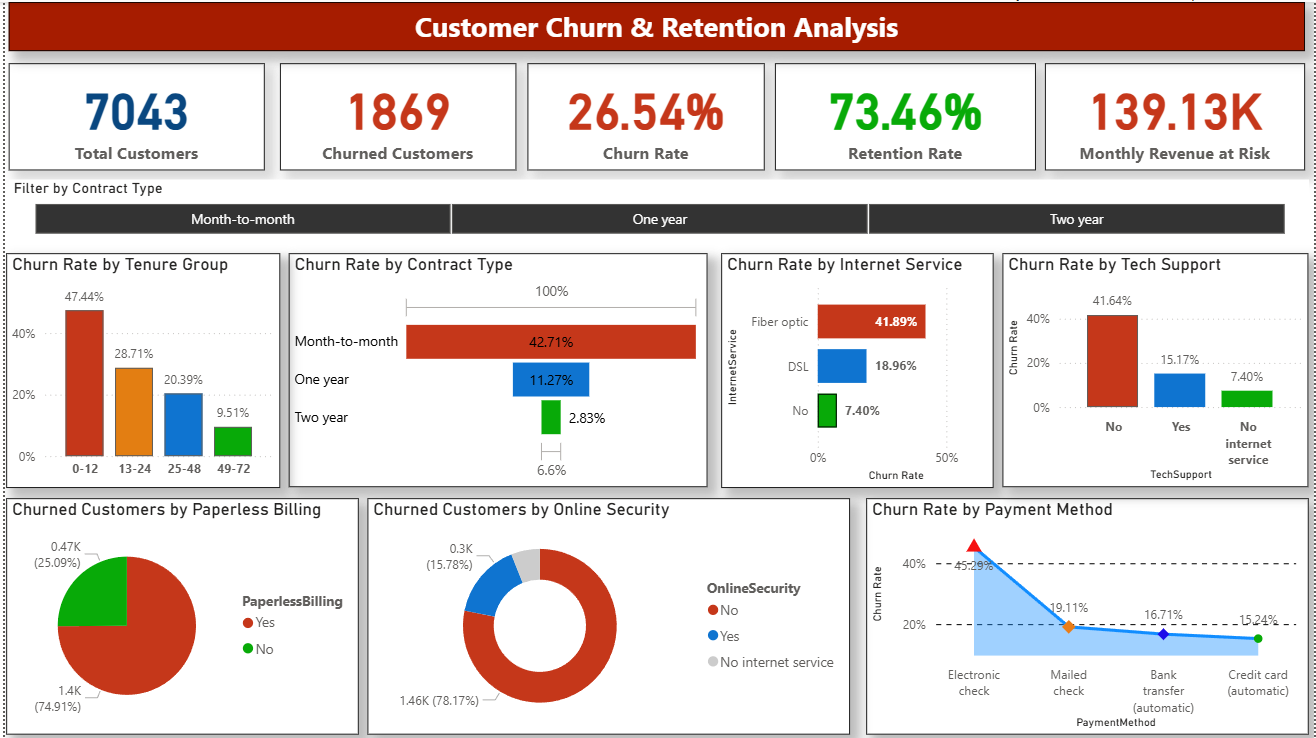

What the dashboard file says about the page in this screenshot:
{"tool":"powerbi","page":{"name":"Churn Analysis Dashboard","canvas":[1280,720],"ordinal":0},"visuals":[{"type":"card","fields":{"Values":["Telco_Customer_Churn_CLEANED.Total Customers"]},"box":[3.7,59.9,250.7,105.2],"z":0},{"type":"card","fields":{"Values":["Telco_Customer_Churn_CLEANED.Churned Customers"]},"box":[269,59.9,231.1,105.2],"z":1000},{"type":"card","fields":{"Values":["Telco_Customer_Churn_CLEANED.Churn Rate"]},"box":[511.1,59.9,232.3,105.2],"z":2000},{"type":"card","fields":{"Values":["Telco_Customer_Churn_CLEANED.Retention Rate"]},"box":[753.3,59.9,255.6,105.2],"z":3000},{"type":"card","fields":{"Values":["Telco_Customer_Churn_CLEANED.Revenue_at_risk"]},"box":[1017.4,59.9,254.3,105.2],"z":4000},{"type":"funnel","title":"Churn Rate by Contract Type","fields":{"Category":["Telco_Customer_Churn_CLEANED.Contract"],"Y":["Telco_Customer_Churn_CLEANED.Churn Rate"]},"box":[277.6,245.8,409.6,228.7],"z":5000},{"type":"clusteredColumnChart","title":"Churn Rate by Tenure Group","fields":{"Category":["Telco_Customer_Churn_CLEANED.TenureGroup"],"Y":["Telco_Customer_Churn_CLEANED.Churn Rate"]},"box":[1.2,245.8,267.8,229.9],"z":6000},{"type":"clusteredBarChart","title":"Churn Rate by Internet Service","fields":{"Y":["Telco_Customer_Churn_CLEANED.Churn Rate"],"Category":["Telco_Customer_Churn_CLEANED.InternetService"]},"box":[700.7,245.8,266.6,229.9],"z":7000},{"type":"areaChart","title":"Churn Rate by Payment Method","fields":{"Category":["Telco_Customer_Churn_CLEANED.PaymentMethod"],"Y":["Telco_Customer_Churn_CLEANED.Churn Rate"]},"box":[842.5,485.5,432.9,231.1],"z":8000},{"type":"textbox","box":[3.7,0,1268.1,47.7],"z":9000},{"type":"clusteredColumnChart","title":"Churn Rate by Tech Support","fields":{"Category":["Telco_Customer_Churn_CLEANED.TechSupport"],"Y":["Telco_Customer_Churn_CLEANED.Churn Rate"]},"box":[975.8,245.8,299.6,228.7],"z":10000},{"type":"pieChart","title":"Churned Customers by Paperless Billing","fields":{"Category":["Telco_Customer_Churn_CLEANED.PaperlessBilling"],"Y":["CountNonNull(Telco_Customer_Churn_CLEANED.customerID)"]},"box":[1.2,485.5,344.8,231.1],"z":11000},{"type":"donutChart","title":"Churned Customers by Online Security","fields":{"Category":["Telco_Customer_Churn_CLEANED.OnlineSecurity"],"Y":["CountNonNull(Telco_Customer_Churn_CLEANED.customerID)"]},"box":[354.6,485.5,472,231.1],"z":12000},{"type":"slicer","title":"Filter by Contract Type","fields":{"Values":["Telco_Customer_Churn_CLEANED.Contract"]},"box":[3.7,173.6,1271.7,59.9],"z":13000}]}

Visuals, with their boxes in screenshot pixels (x1, y1, x2, y2), scaled from the page's 1280x720 canvas onto the 1316x738 screenshot:
card - Telco_Customer_Churn_CLEANED.Total Customers: Rect(4, 61, 262, 169)
card - Telco_Customer_Churn_CLEANED.Churned Customers: Rect(277, 61, 514, 169)
card - Telco_Customer_Churn_CLEANED.Churn Rate: Rect(525, 61, 764, 169)
card - Telco_Customer_Churn_CLEANED.Retention Rate: Rect(774, 61, 1037, 169)
card - Telco_Customer_Churn_CLEANED.Revenue_at_risk: Rect(1046, 61, 1307, 169)
"Churn Rate by Contract Type" funnel: Rect(285, 252, 707, 486)
"Churn Rate by Tenure Group" clusteredColumnChart: Rect(1, 252, 277, 488)
"Churn Rate by Internet Service" clusteredBarChart: Rect(720, 252, 995, 488)
"Churn Rate by Payment Method" areaChart: Rect(866, 498, 1311, 735)
textbox: Rect(4, 0, 1308, 49)
"Churn Rate by Tech Support" clusteredColumnChart: Rect(1003, 252, 1311, 486)
"Churned Customers by Paperless Billing" pieChart: Rect(1, 498, 356, 735)
"Churned Customers by Online Security" donutChart: Rect(365, 498, 850, 735)
"Filter by Contract Type" slicer: Rect(4, 178, 1311, 239)
